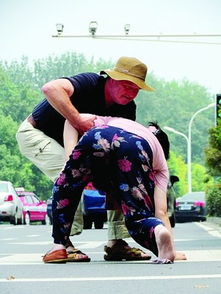fall: (43, 111, 197, 266)
